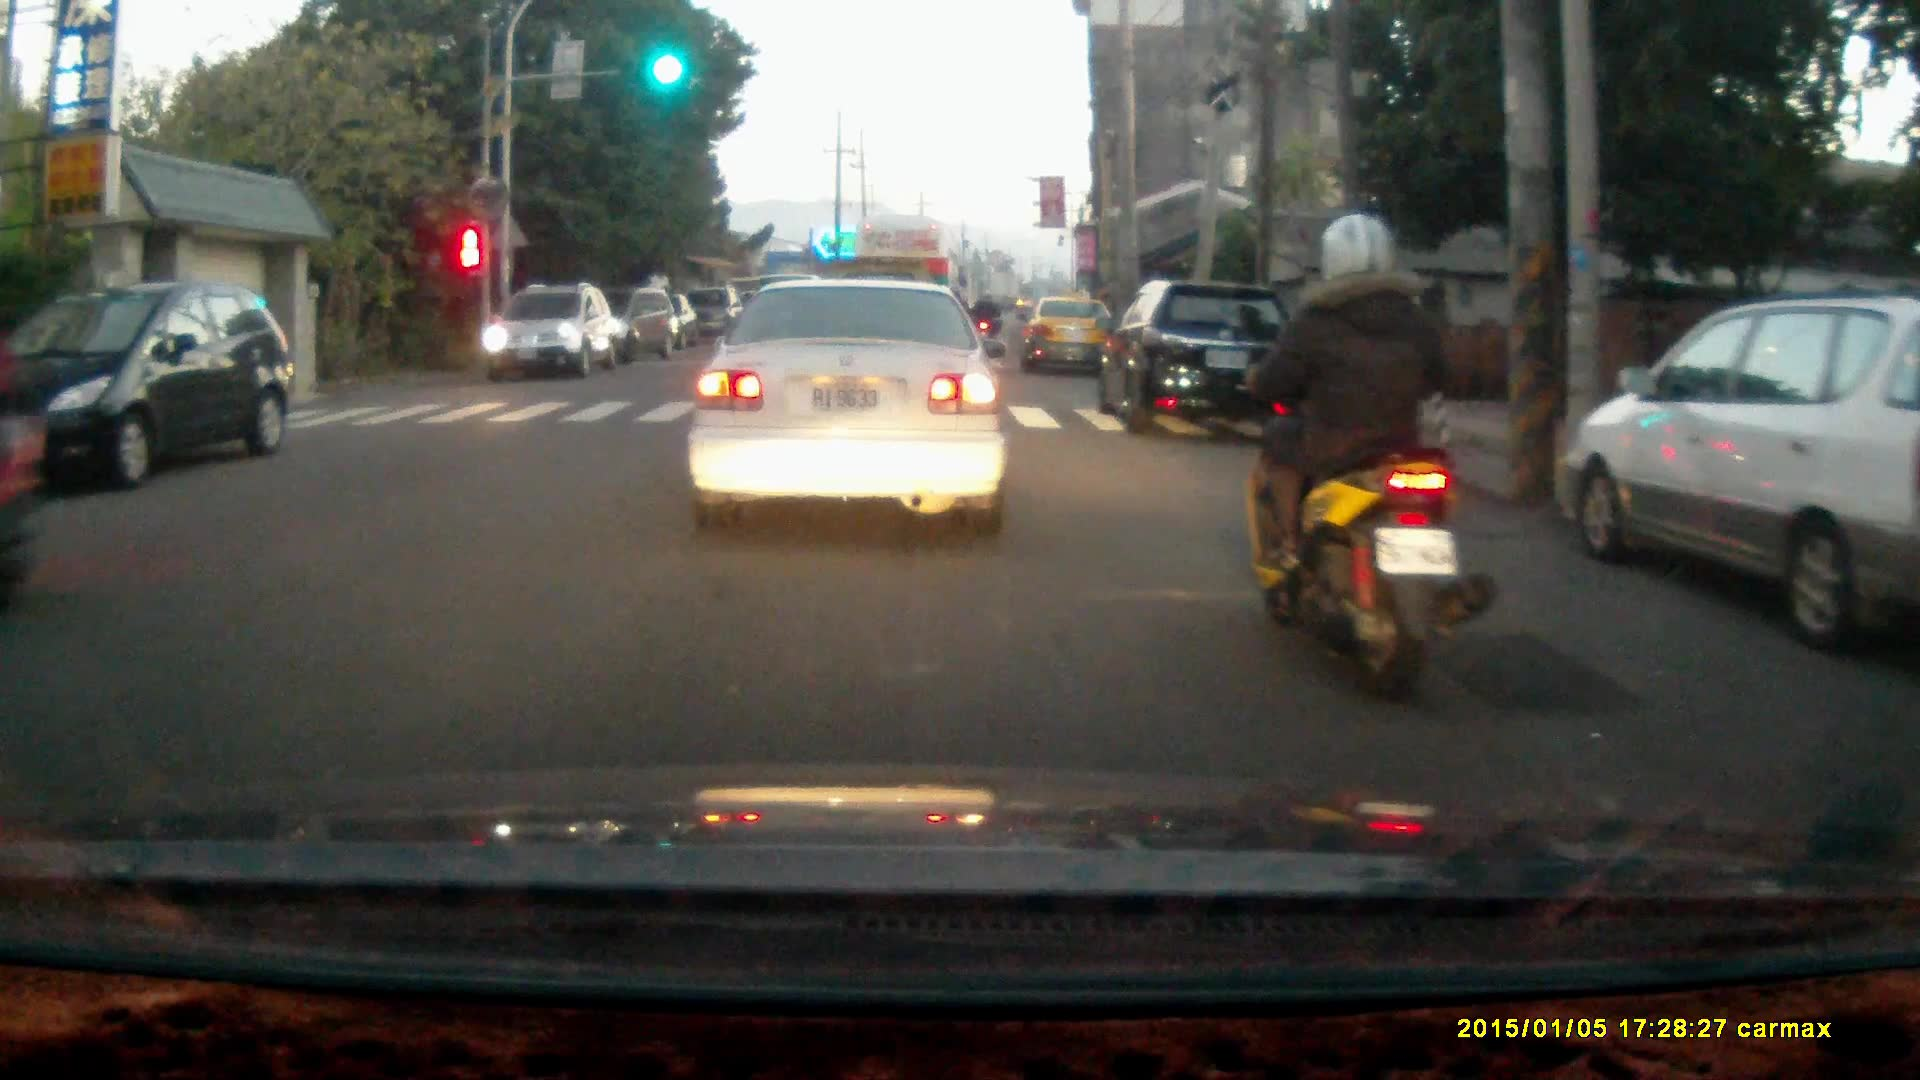rider: (1223, 214, 1499, 707)
vehicle: (1569, 295, 1920, 661), (687, 271, 1010, 537), (1, 280, 296, 506), (1093, 276, 1305, 438), (848, 214, 958, 363), (482, 287, 618, 388), (561, 282, 681, 364), (1021, 294, 1122, 380)
